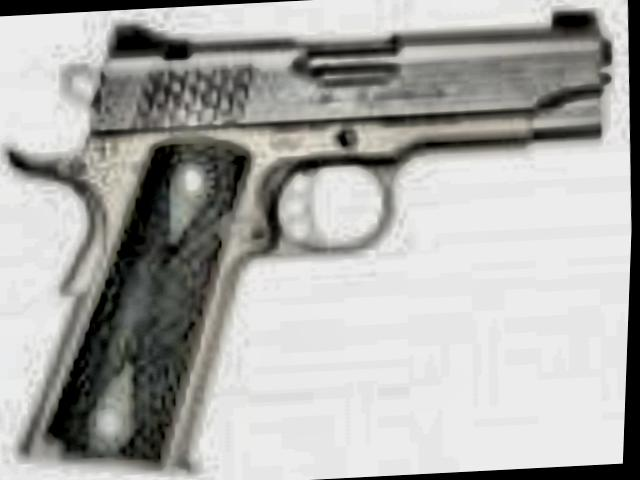pistol: (0, 0, 627, 475)
